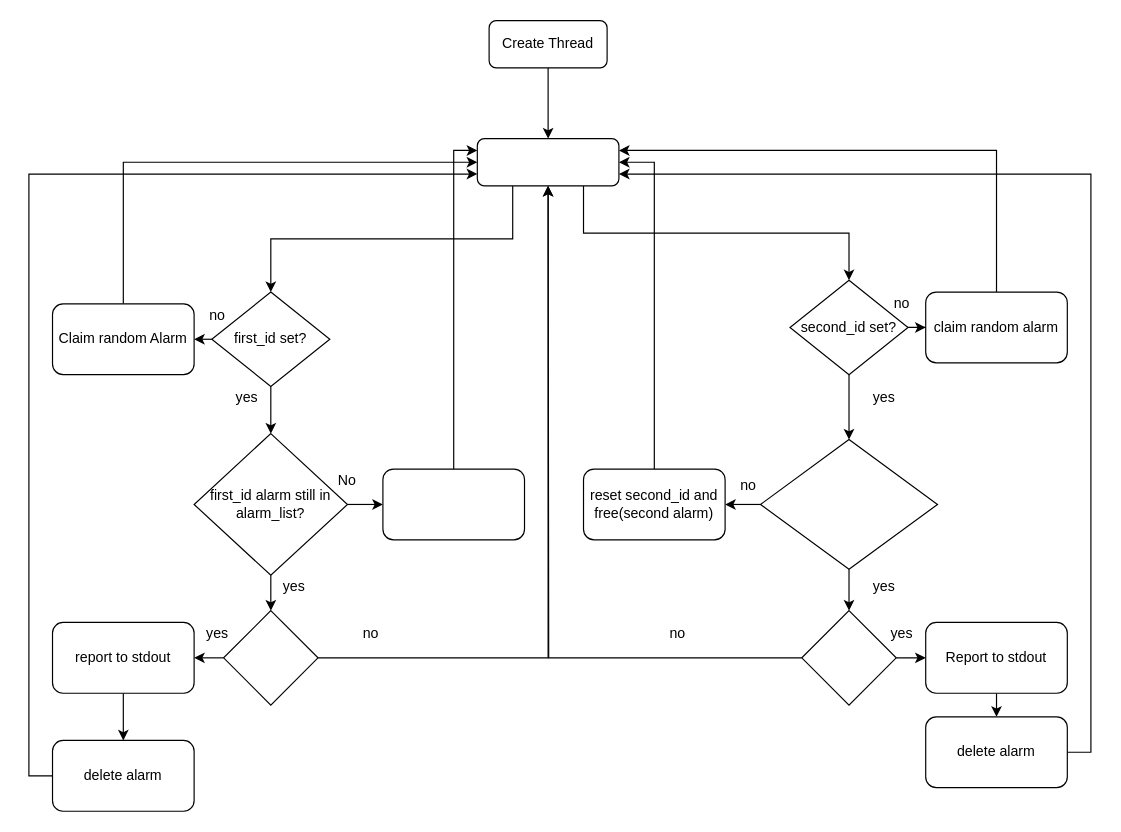
The diagram is 1121 pixels wide and 832 high, and some of its shapes have lost their labels. Each missing label, with the centre of its shape:
"alarm past deadline" belongs at [848,657].
"alarm past deadline?" belongs at [270,657].
"reset first_id and free(first alarm)" belongs at [453,504].
"second_id alarm still in alarm_list?" belongs at [848,503].
"Sleep(1)" belongs at [547,161].
